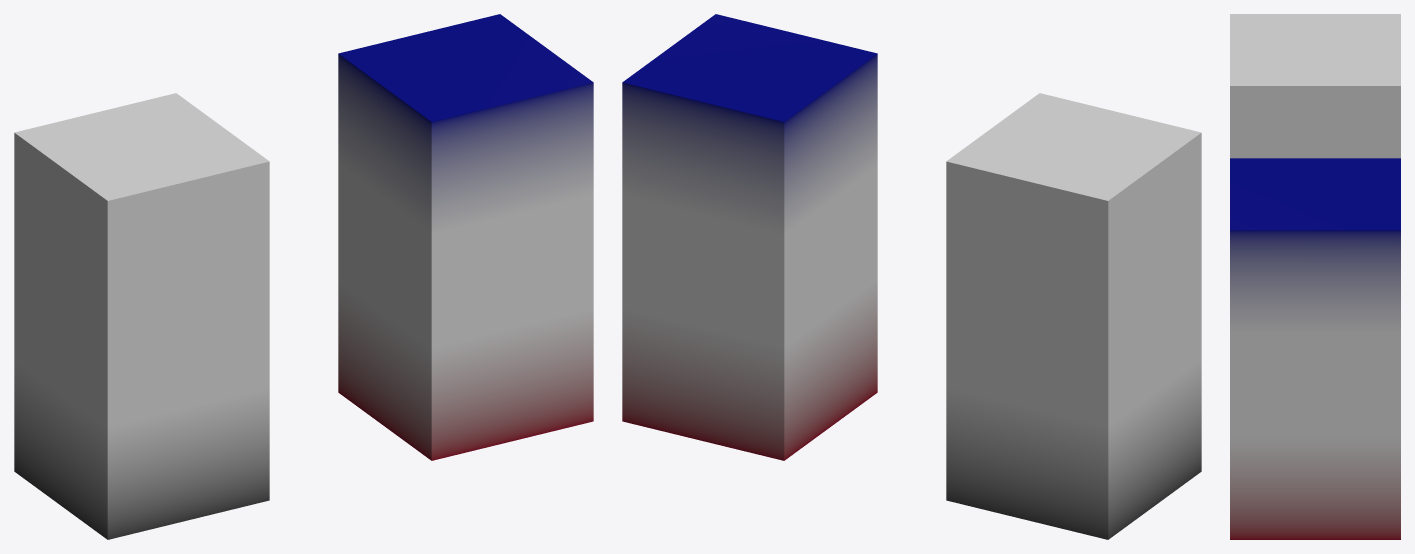
File: color.fbx
The picture shows the model from 3 angles, left to right: view 1: azimuth 30°, elevation 25°; view 2: azimuth 150°, elevation 25°; view 3: azimuth 270°, elevation 25°; orthographic projection. The views are drawn at different scales.
Parts seen in each view (by area): view 1: Cube, Cube.001; view 2: Cube, Cube.001; view 3: Cube.001, Cube.
Part boxes in pixels (x1=…): Cube: x1=14, y1=93, x2=269, y2=539; Cube.001: x1=338, y1=14, x2=593, y2=460; Cube: x1=946, y1=93, x2=1201, y2=539; Cube.001: x1=622, y1=14, x2=877, y2=460; Cube.001: x1=1230, y1=158, x2=1400, y2=539; Cube: x1=1230, y1=14, x2=1400, y2=158.
Bounding box in the file's own units: 300 × 200 × 100.
